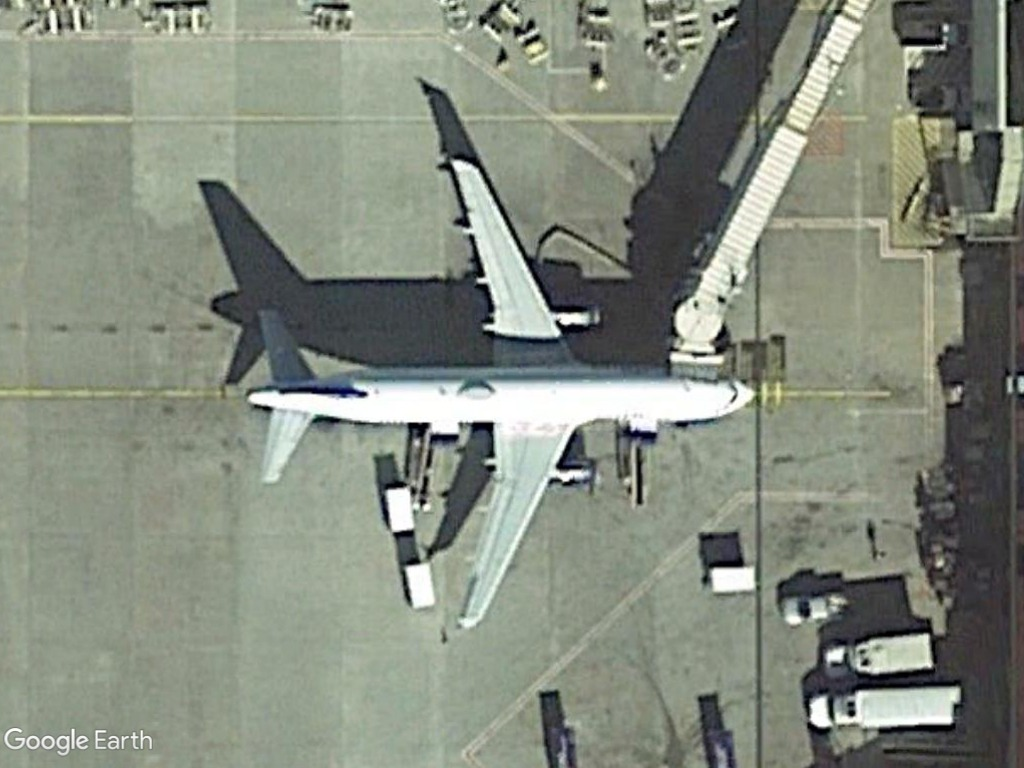airliner: (236, 152, 763, 633)
truck: (800, 683, 969, 736), (817, 627, 940, 685)
